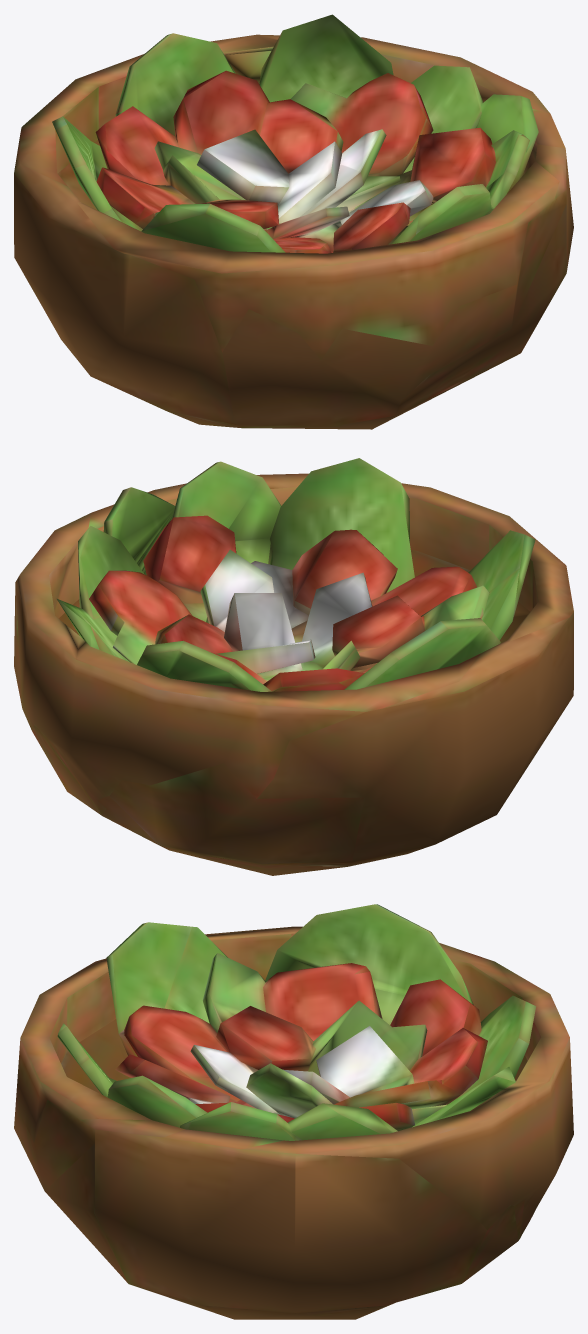
The model's file is g_shucaishala.glb.
3 views of the same model, one above another, from view 1: azimuth 30°, elevation 25°; view 2: azimuth 150°, elevation 25°; view 3: azimuth 270°, elevation 25° (orthographic).
Visible parts, largest first — view 1: node_0; view 2: node_0; view 3: node_0.
Boxes of the visible parts, x1=… form: node_0: x1=14, y1=14, x2=573, y2=429; node_0: x1=14, y1=458, x2=573, y2=875; node_0: x1=14, y1=904, x2=573, y2=1319.
Bounding box in the file's own units: 1.14 × 0.5883 × 1.13.
Materials: 1 (1 with a texture image).
